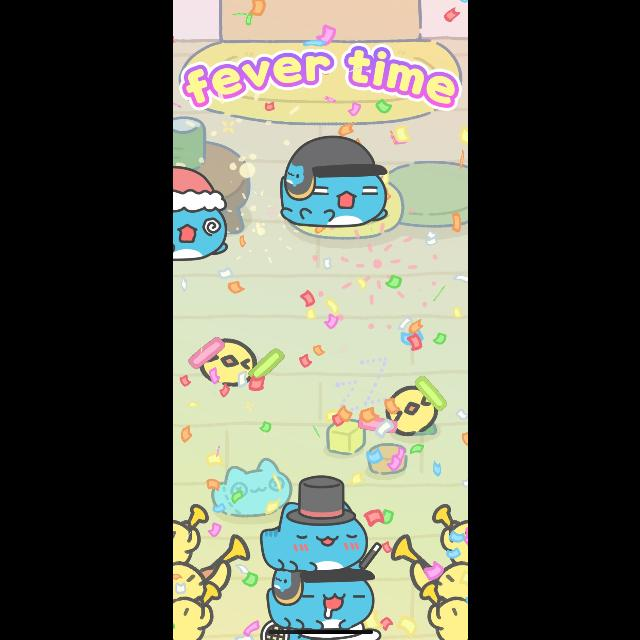capoo: (259, 474, 383, 580), (278, 136, 388, 226), (264, 574, 384, 632), (172, 160, 230, 262)
